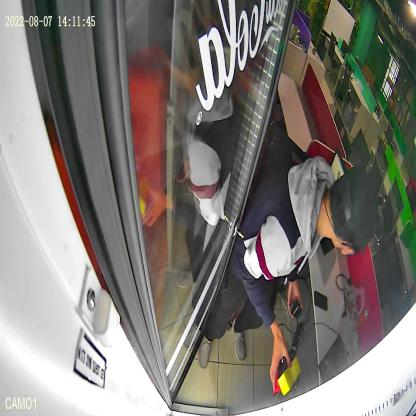red: (272, 357, 296, 405)
yellow: (278, 354, 300, 398)
